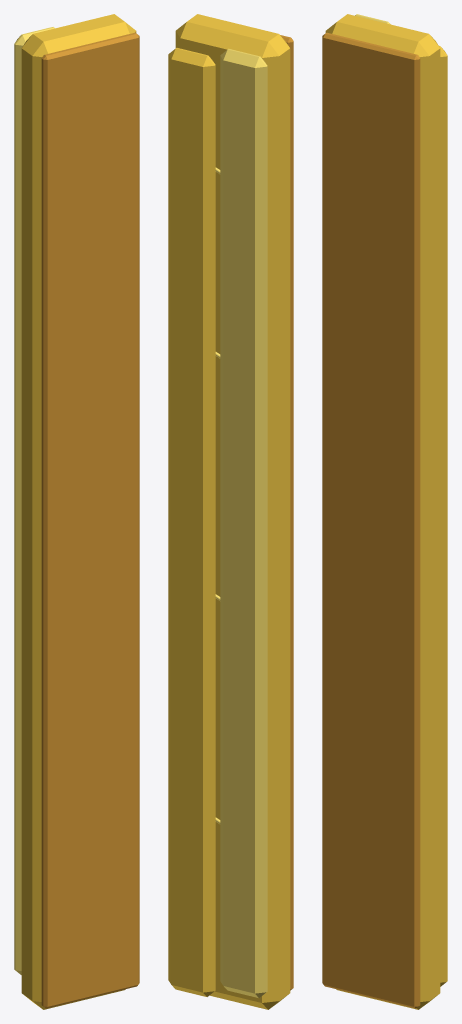
File: egg.glb
3 views of the same model, side by side, from view 1: azimuth 30°, elevation 25°; view 2: azimuth 150°, elevation 25°; view 3: azimuth 330°, elevation 25° (orthographic).
Visible parts, largest first — view 1: browned_bottom, egg_strip, egg_fold_left; view 2: egg_fold_left, egg_fold_right, egg_strip, browned_bottom; view 3: browned_bottom, egg_strip, egg_fold_right.
Boxes of the visible parts, <box> form: browned_bottom: <box>41,32,139,1008</box>; egg_strip: <box>21,14,136,1009</box>; egg_fold_left: <box>14,27,54,974</box>; egg_fold_left: <box>220,48,267,997</box>; egg_fold_right: <box>168,48,215,996</box>; egg_strip: <box>175,14,290,1009</box>; browned_bottom: <box>280,35,293,990</box>; browned_bottom: <box>322,32,420,1008</box>; egg_strip: <box>325,14,440,1009</box>; egg_fold_right: <box>439,46,447,986</box>.
Bounding box in the file's own units: 0.112 × 0.998 × 0.0635.
